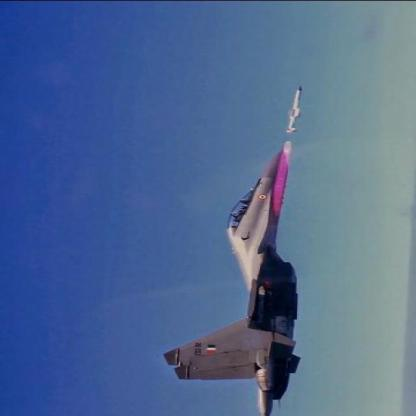MIL_TBM: (285, 86, 303, 133)
